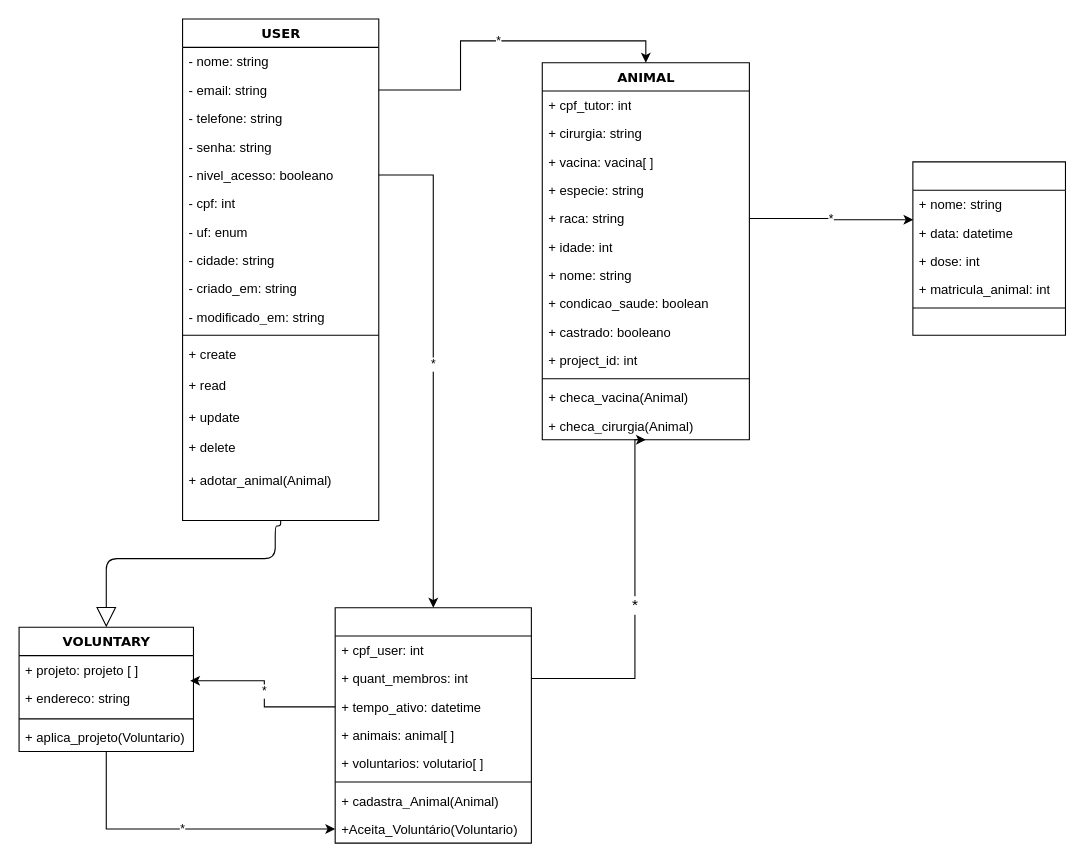
Some shapes in this 1085 by 865 pixel diagram are drawn without their labels. Each missing label, with the box of its shape:
PROJECT: (334, 607, 531, 843)
VACCINE: (912, 161, 1065, 335)
